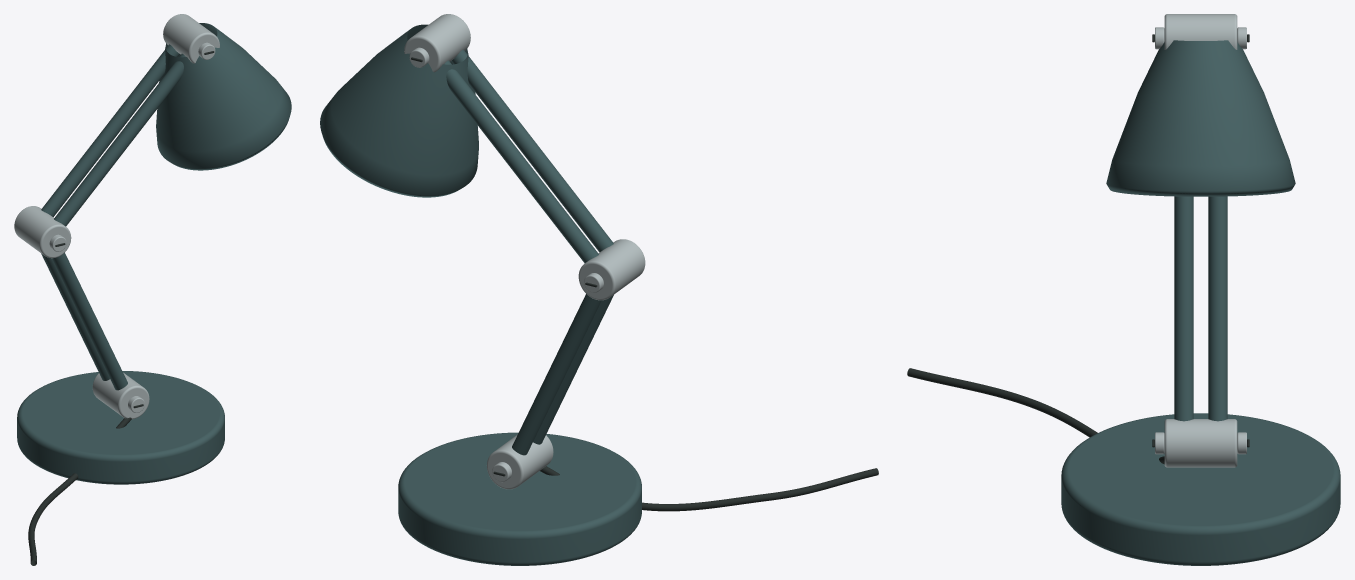
File: reading_lamp.glb
The picture shows the model from 3 angles, left to right: view 1: azimuth 30°, elevation 25°; view 2: azimuth 150°, elevation 25°; view 3: azimuth 270°, elevation 25°; orthographic projection. The views are drawn at different scales.
Visible parts, largest first — view 1: Weighted base, Double wall aluminium shade, Upper parallel arm, Upper parallel arm.001, Lower parallel arm, Arm joint pin.001, Arm joint pin.002, Arm joint pin, Lower parallel arm.001, Braided power cable; view 2: Weighted base, Double wall aluminium shade, Upper parallel arm.001, Upper parallel arm, Lower parallel arm.001, Arm joint pin.001, Arm joint pin.002, Braided power cable, Arm joint pin, Lower parallel arm; view 3: Weighted base, Double wall aluminium shade, Lower parallel arm, Lower parallel arm.001, Arm joint pin, Arm joint pin.002, Braided power cable.
Part boxes in pixels (x1,y1,x2,y2): Weighted base: (17,371,224,484); Double wall aluminium shade: (156,23,291,170); Upper parallel arm: (54,53,185,226); Upper parallel arm.001: (41,44,179,217); Lower parallel arm: (51,253,127,390); Arm joint pin.001: (14,206,71,258); Arm joint pin.002: (163,14,219,63); Arm joint pin: (92,372,149,419); Lower parallel arm.001: (41,253,109,380); Braided power cable: (28,417,131,565); Weighted base: (398,432,641,565); Double wall aluminium shade: (320,24,478,197); Upper parallel arm.001: (444,60,598,263); Upper parallel arm: (451,49,613,252); Lower parallel arm.001: (512,294,601,455); Arm joint pin.001: (578,239,645,300); Arm joint pin.002: (404,14,470,72); Braided power cable: (540,466,878,511); Arm joint pin: (486,434,553,489); Lower parallel arm: (533,295,613,444); Weighted base: (1061,413,1340,565); Double wall aluminium shade: (1106,40,1295,196); Lower parallel arm: (1174,196,1193,421); Lower parallel arm.001: (1208,196,1227,421); Arm joint pin: (1164,419,1237,467); Arm joint pin.002: (1164,14,1237,49); Braided power cable: (907,368,1164,464).
Bounding box in the file's own units: 0.4581 × 0.49 × 0.3568.
